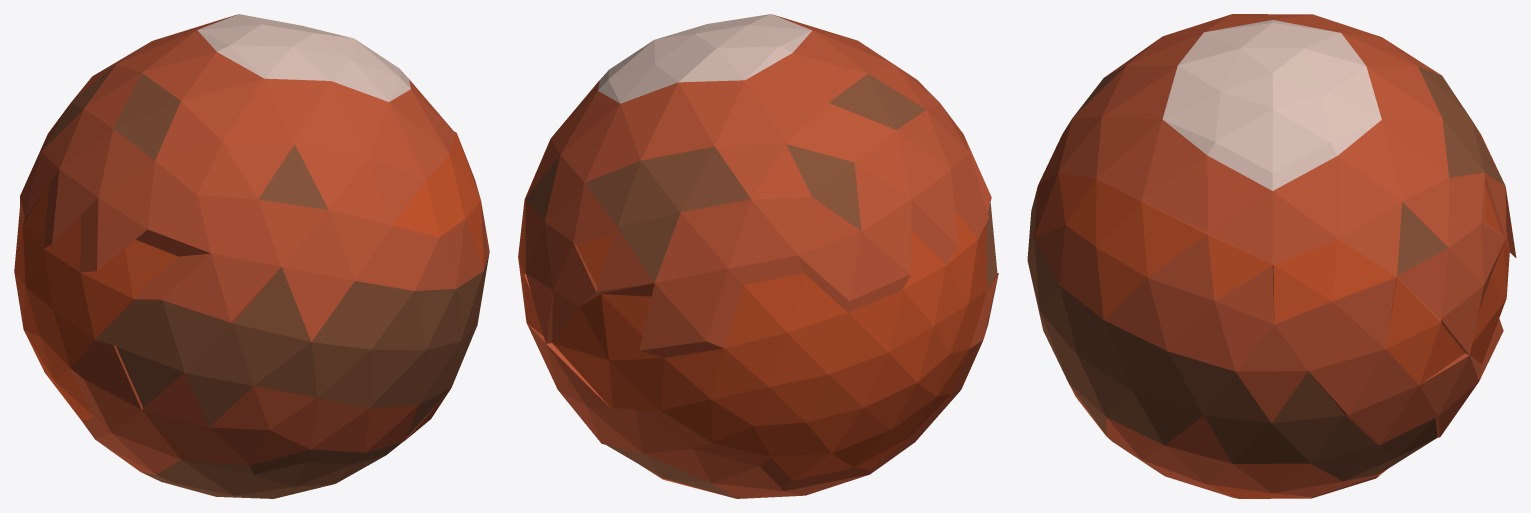
Rendered from mars.glb.
3 views of the same model, side by side, from view 1: azimuth 30°, elevation 25°; view 2: azimuth 150°, elevation 25°; view 3: azimuth 270°, elevation 25° (orthographic). The views are drawn at different scales.
Parts seen in each view (by area): view 1: mars; view 2: mars; view 3: mars.
Part boxes in pixels (bbox=[...]): mars: bbox=[14, 14, 489, 498]; mars: bbox=[518, 14, 998, 498]; mars: bbox=[1027, 14, 1516, 498].
Size of the model in its own units: 1.58 by 1.59 by 1.59.
Materials: 1 (1 with a texture image).
